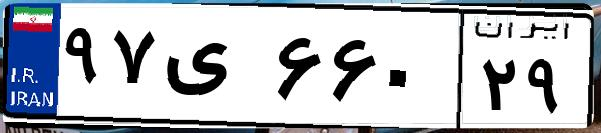0: (385, 28, 445, 110)
2: (475, 38, 525, 113)
6: (270, 28, 330, 110), (330, 28, 385, 110)
7: (110, 28, 158, 98)
9: (57, 26, 110, 100), (525, 38, 570, 115)
ی: (158, 20, 270, 120)
